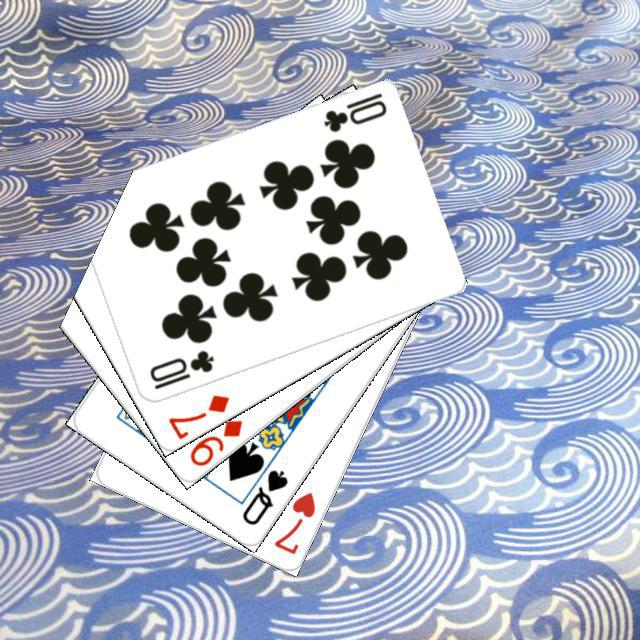10c: (318, 87, 389, 134), (144, 345, 216, 391)
7d: (163, 389, 231, 440)
7h: (268, 487, 317, 557)
9d: (184, 414, 245, 468)
Qs: (237, 464, 290, 527)
